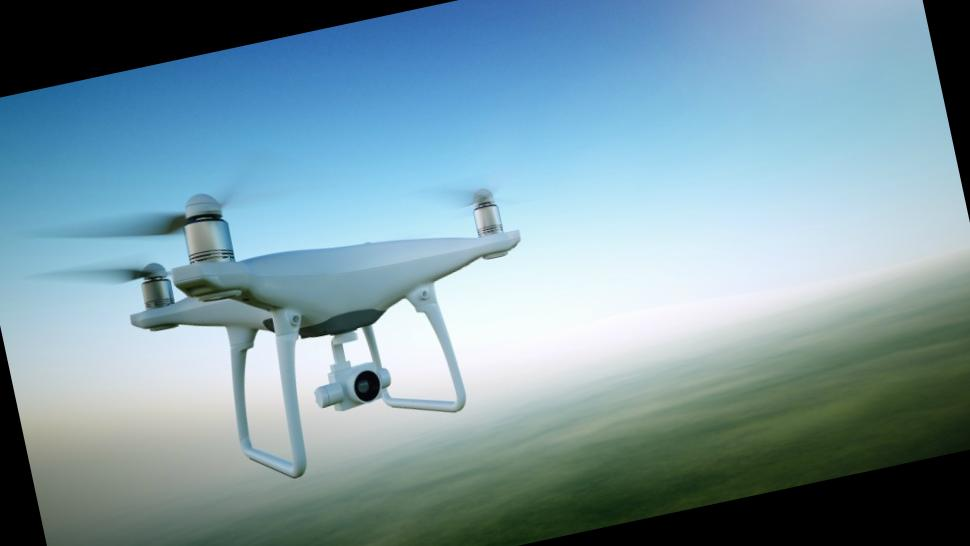drone: (71, 115, 556, 428)
